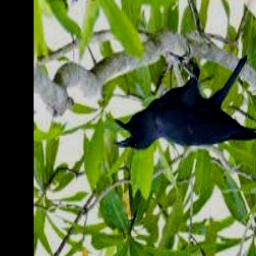Crow: (113, 54, 256, 153)
